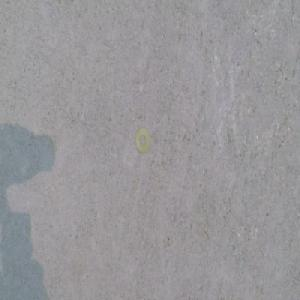Washer: (135, 127, 150, 154)
